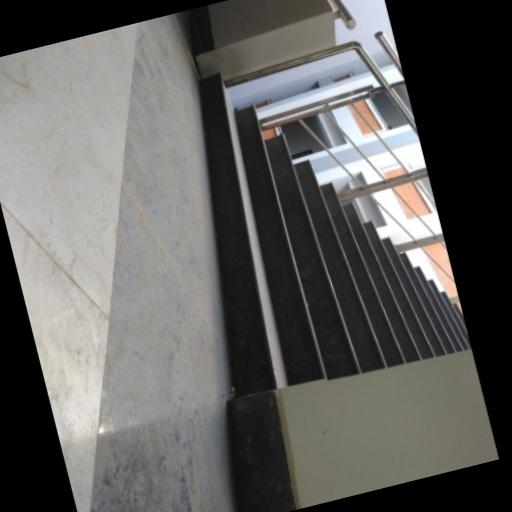stairs: (199, 74, 469, 395)
